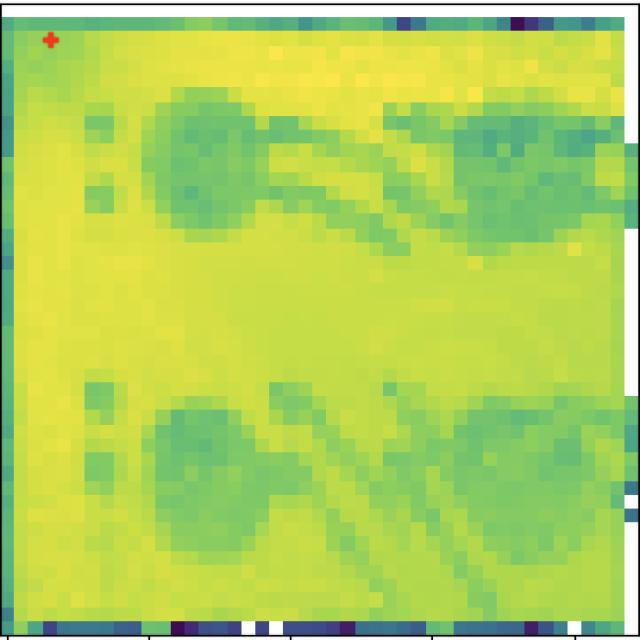Concrete: (444, 90, 602, 258)
Glass: (141, 84, 274, 238)
Metal: (445, 383, 608, 573)
Wood: (134, 383, 290, 564)
